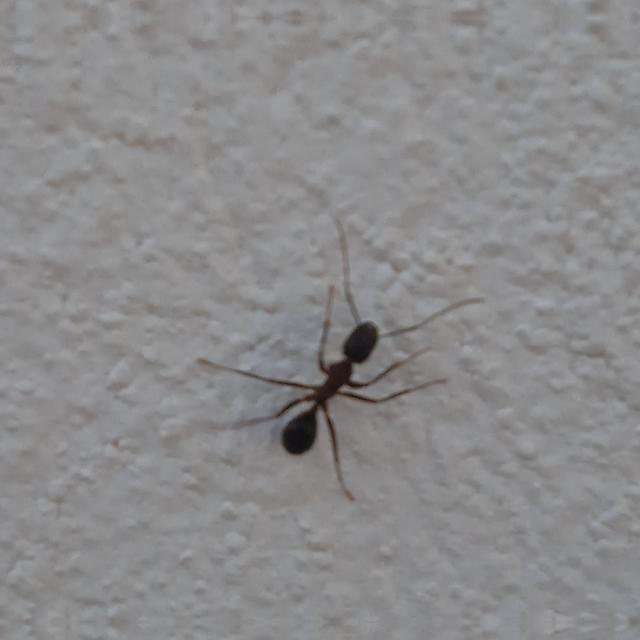Camponotus: (238, 280, 424, 480)
